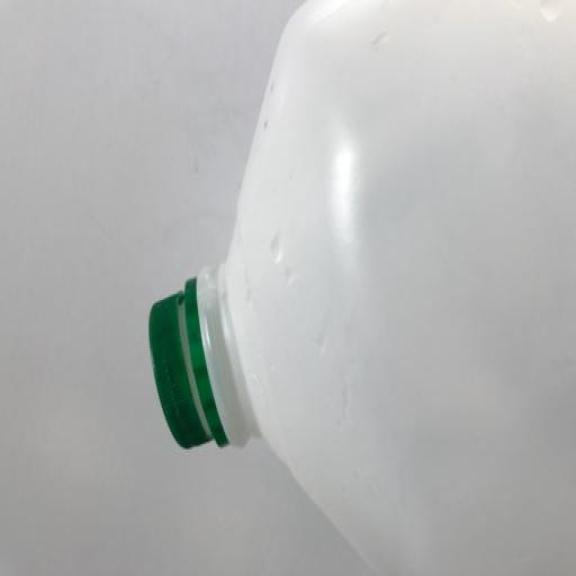Plastik: (144, 0, 576, 570)
